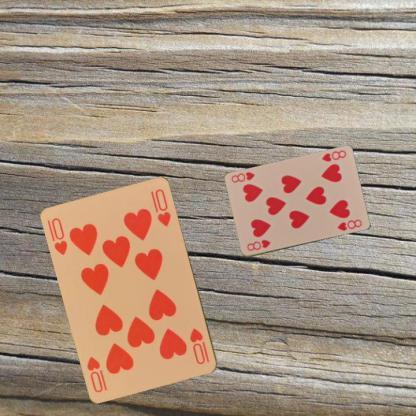10h: (49, 214, 69, 257), (187, 326, 207, 366)
8h: (318, 148, 348, 163), (244, 236, 272, 252)
